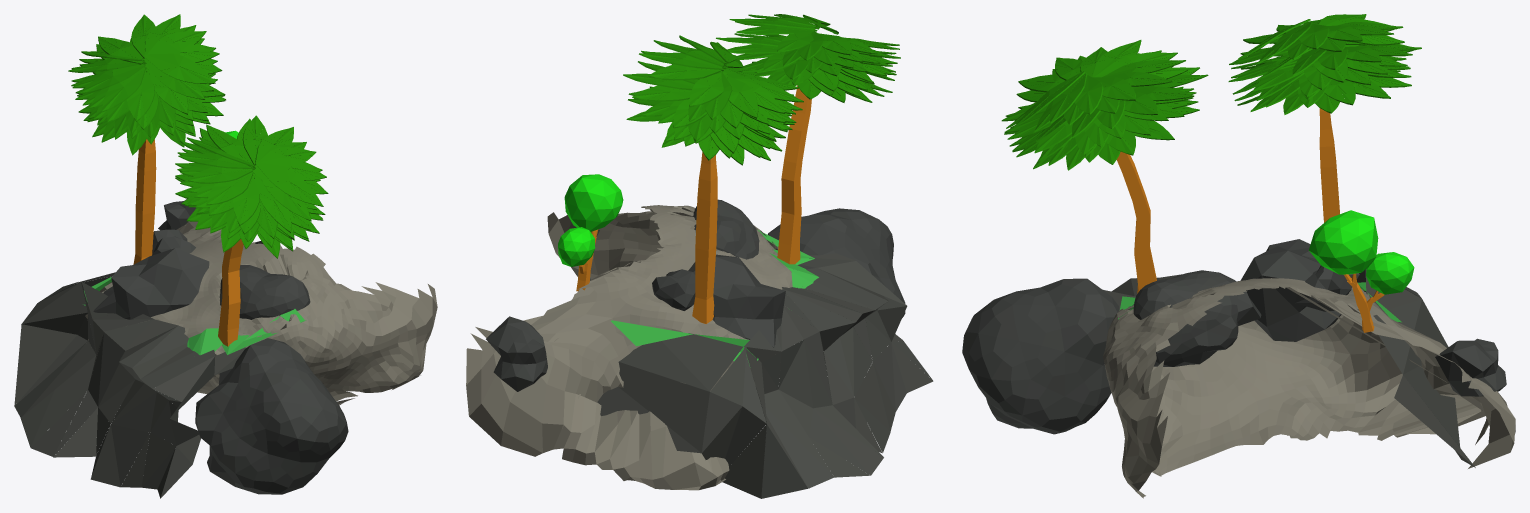
Rendered from island2.glb.
3 views of the same model, side by side, from view 1: azimuth 30°, elevation 25°; view 2: azimuth 150°, elevation 25°; view 3: azimuth 270°, elevation 25° (orthographic). The views are drawn at different scales.
Parts seen in each view (by area): view 1: 平面.040, 棱角球.004, 棱角球, 平面.108, 平面.062, 棱角球.001, 棱角球.005, 立方体, 立方体.001, 平面.002, 棱角球.002, 棱角球.003; view 2: 平面.040, 棱角球.004, 平面.062, 平面.108, 棱角球, 棱角球.001, 立方体, 立方体.001, 棱角球.003, 棱角球.008, 平面.002, 棱角球.005 (+2 smaller); view 3: 棱角球.004, 棱角球, 平面.108, 平面.062, 平面.040, 棱角球.005, 棱角球.001, 棱角球.008, 棱角球.003, 立方体.001, 立方体, 棱角球.006 (+2 smaller).
Boxes of the visible parts, x1,y1,x2,y2 form: 平面.040: (14,241,262,498); 棱角球.004: (85,221,437,405); 棱角球: (195,338,348,494); 平面.108: (175,115,328,258); 平面.062: (68,14,225,155); 棱角球.001: (93,248,209,319); 棱角球.005: (219,265,310,319); 立方体: (133,139,156,264); 立方体.001: (218,239,243,346); 平面.002: (83,276,306,355); 棱角球.002: (152,229,195,255); 棱角球.003: (158,199,196,230); 平面.040: (597,253,933,498); 棱角球.004: (466,205,792,490); 平面.062: (623,35,803,165); 平面.108: (716,14,900,102); 棱角球: (767,208,905,353); 棱角球.001: (688,254,785,347); 立方体: (692,152,717,323); 立方体.001: (777,85,811,264); 棱角球.003: (486,316,547,391); 棱角球.008: (564,174,623,231); 平面.002: (611,229,818,367); 棱角球.005: (693,199,759,259); 棱角球.004: (1103,278,1515,498); 棱角球: (962,278,1118,434); 平面.108: (1001,40,1208,170); 平面.062: (1228,14,1421,114); 平面.040: (1103,269,1475,467); 棱角球.005: (1133,270,1261,366); 棱角球.001: (1240,239,1347,341); 棱角球.008: (1308,210,1378,274); 棱角球.003: (1435,338,1506,396); 立方体.001: (1116,151,1156,293); 立方体: (1319,108,1339,222); 棱角球.006: (1366,252,1414,294).
Size of the model in its own units: 13.4 by 13.77 by 15.89.
